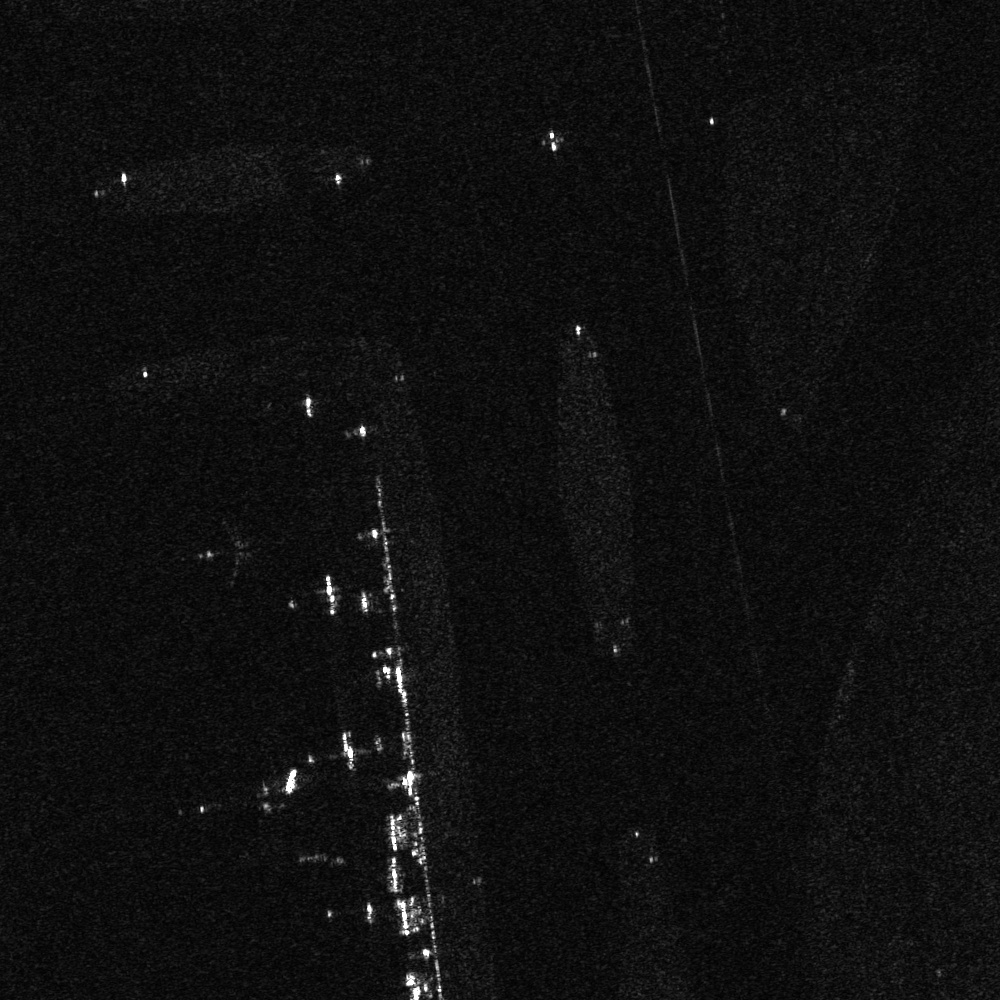Boeing737: (184, 513, 264, 595)
